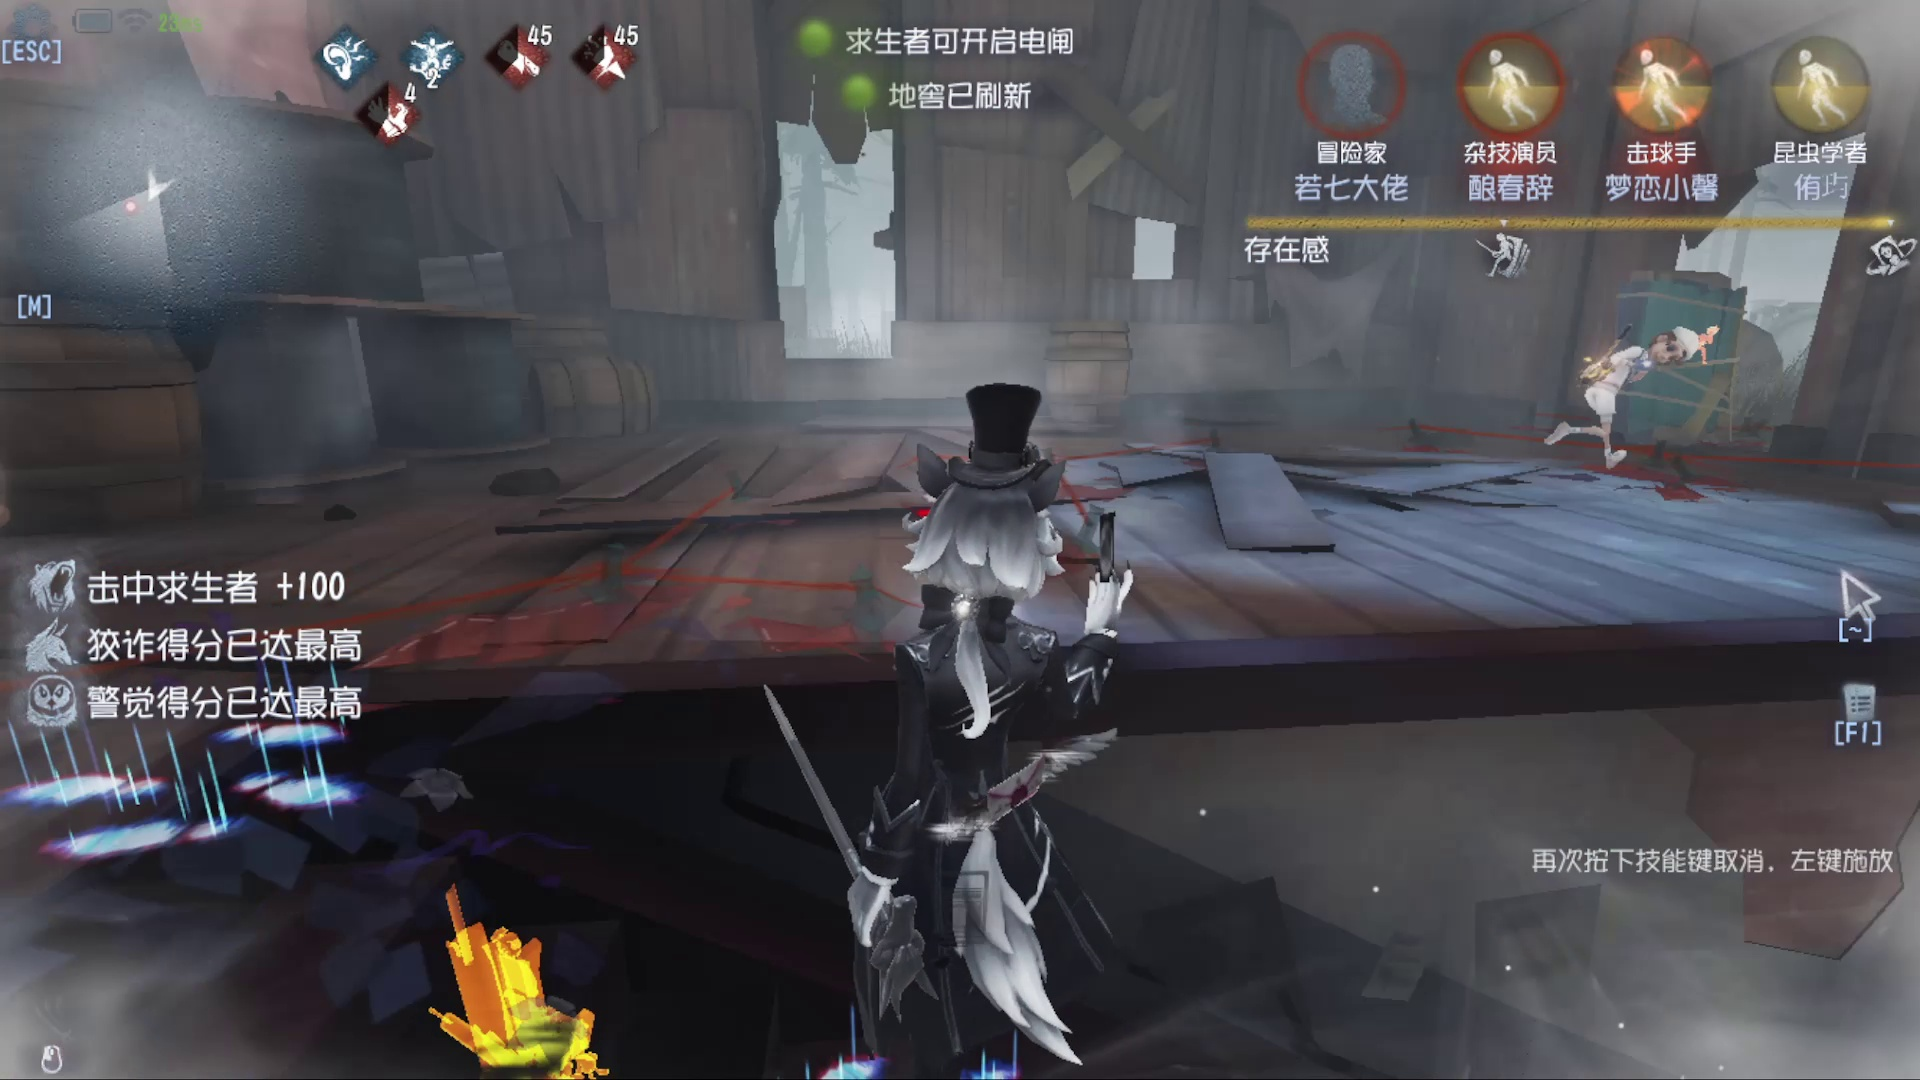木板: (1618, 255, 1762, 491)
求生者: (1526, 319, 1684, 458)
